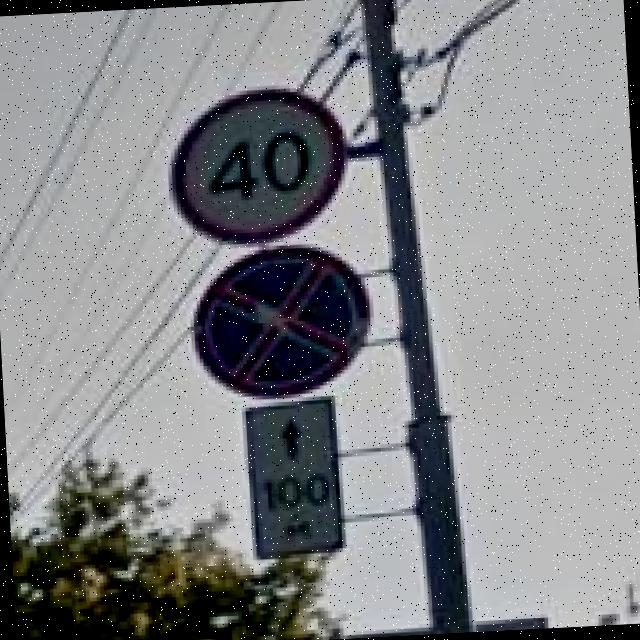Ograniczenie predkosci do 40: (164, 82, 352, 251)
Zakaz zatrzymywania sie: (186, 245, 374, 403)
